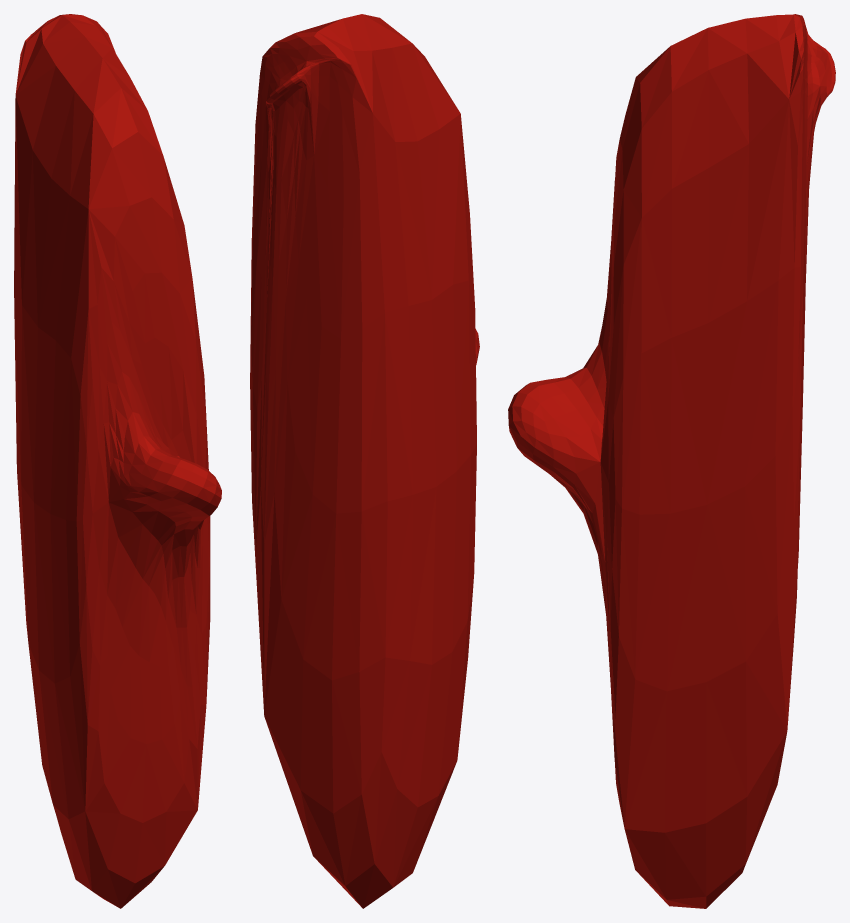
3 renders of one model, left to right at view 1: azimuth 30°, elevation 25°; view 2: azimuth 150°, elevation 25°; view 3: azimuth 270°, elevation 25°, orthographic. The views are drawn at different scales.
Parts seen in each view (by area): view 1: 363_Cube.1483; view 2: 363_Cube.1483; view 3: 363_Cube.1483.
Part boxes in pixels (<box>): 363_Cube.1483: <box>14,14,221,908</box>; 363_Cube.1483: <box>250,14,479,908</box>; 363_Cube.1483: <box>508,14,835,908</box>.
Bounding box in the file's own units: 1.91 × 11.11 × 3.69.
